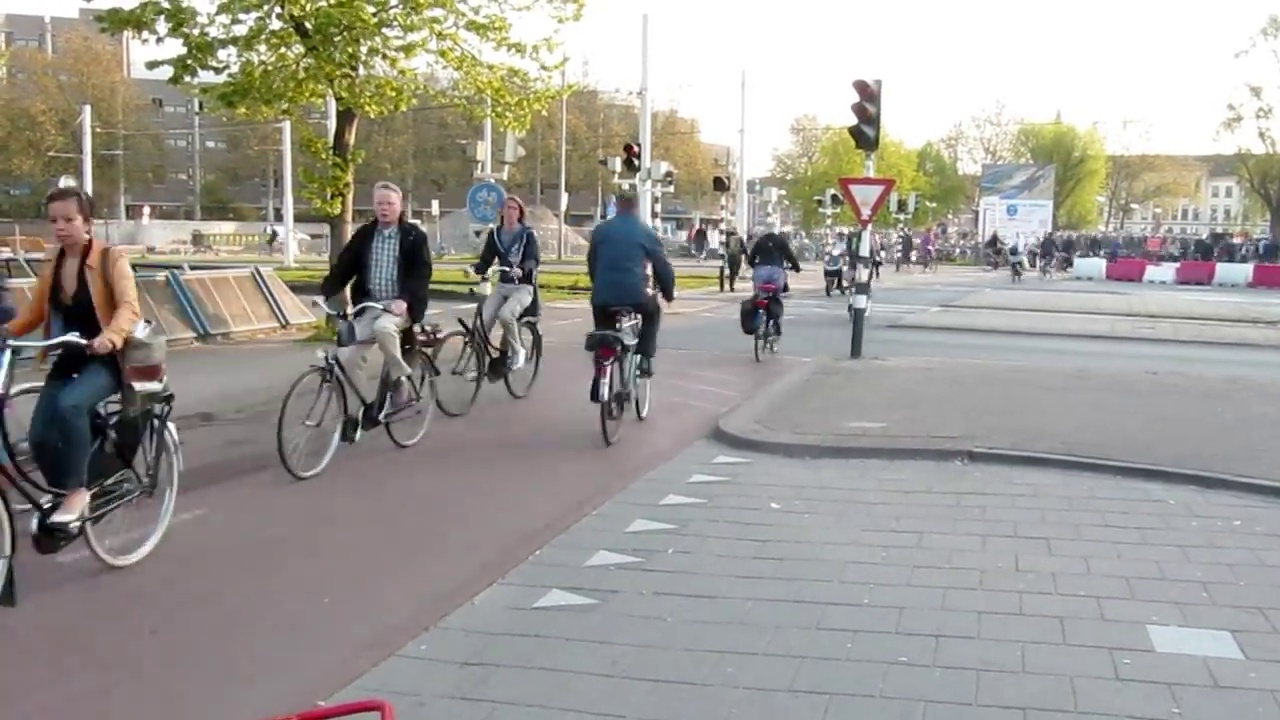cyclist_back: (579, 176, 659, 452), (740, 215, 789, 371), (1009, 232, 1027, 285)
cyclist_front: (4, 179, 189, 625), (277, 170, 442, 473), (438, 174, 553, 405)
